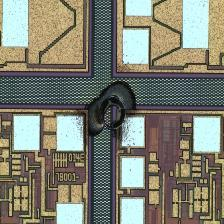PARTICLE: (76, 80, 141, 145)
